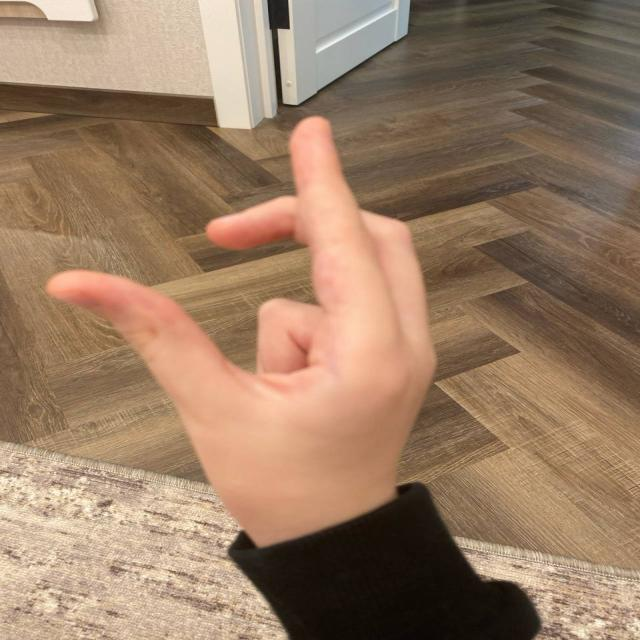b: (24, 110, 458, 450)
